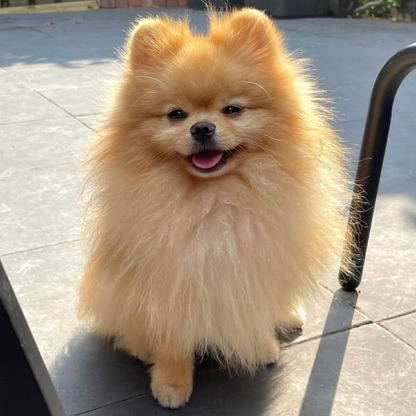Pomeranian: (91, 7, 367, 397)
